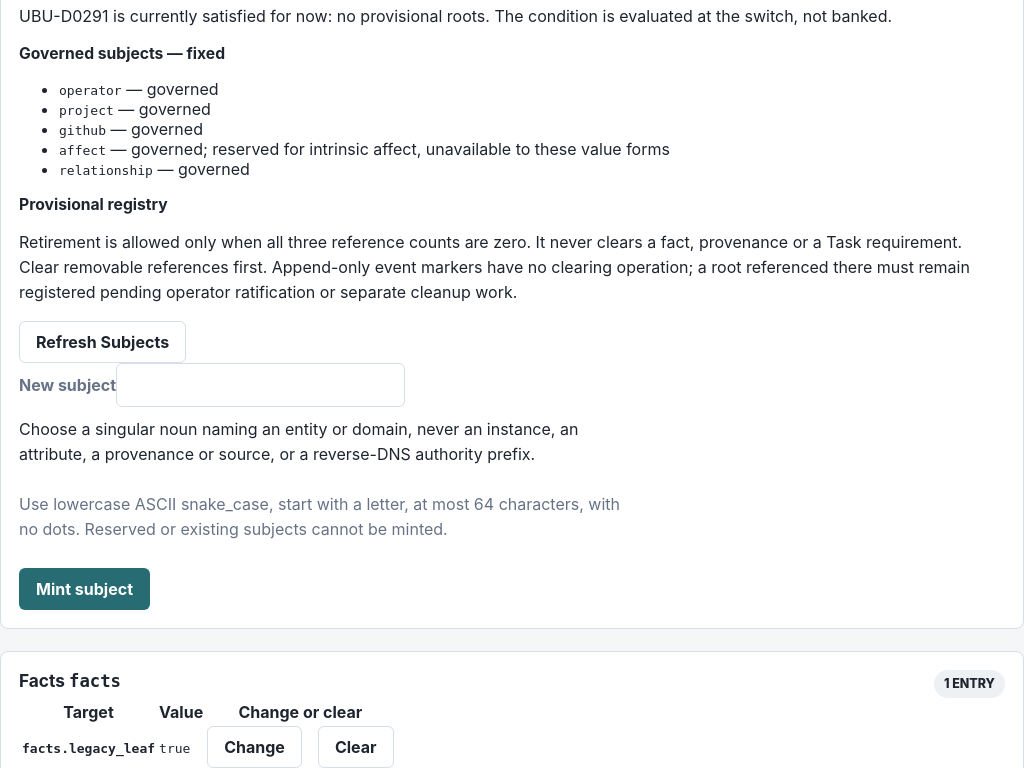
Test: computes empty-for-now satisfaction and changes to outstanding after explicit minting
(page scrolled)
Expected: the text named "Subject ratification status" shows "currently satisfied for now", x1=19 y1=6 x2=892 y2=26
Expected: the text named "Subject ratification status" shows "evaluated at the switch, not banked", x1=19 y1=6 x2=892 y2=26
Type "workbench" into the field labelled "New subject".
click(260, 385); type("workbench")  # box x1=116 y1=363 x2=405 y2=407
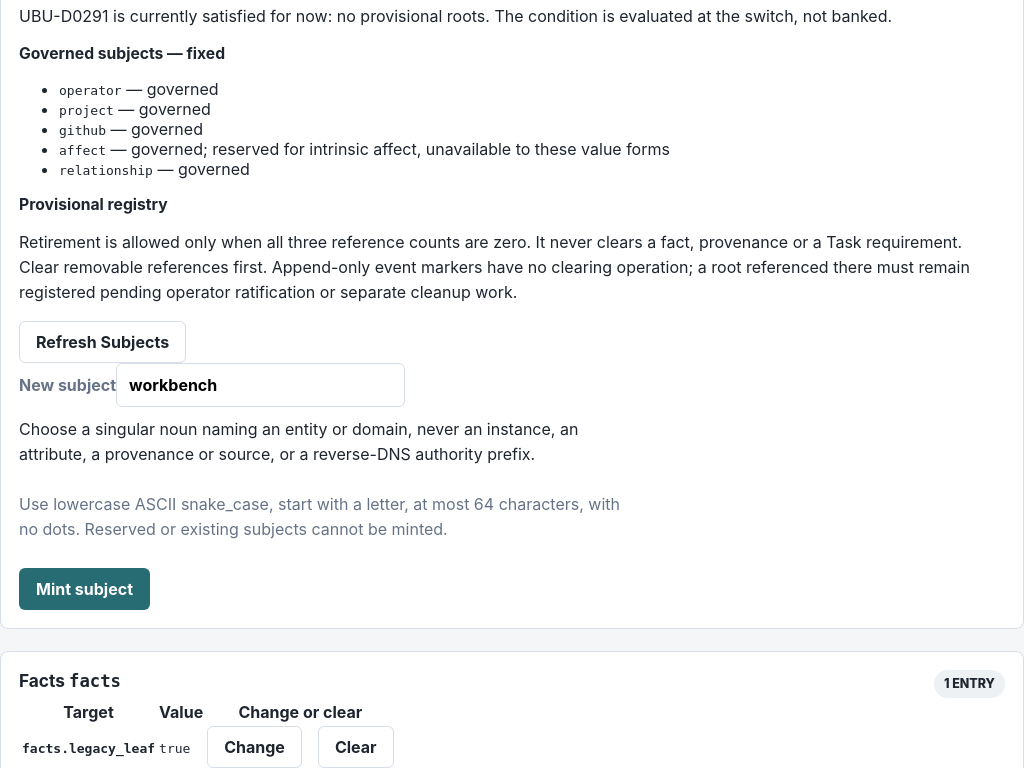
Click the button "Mint subject".
click(84, 589)  # box x1=19 y1=568 x2=150 y2=610
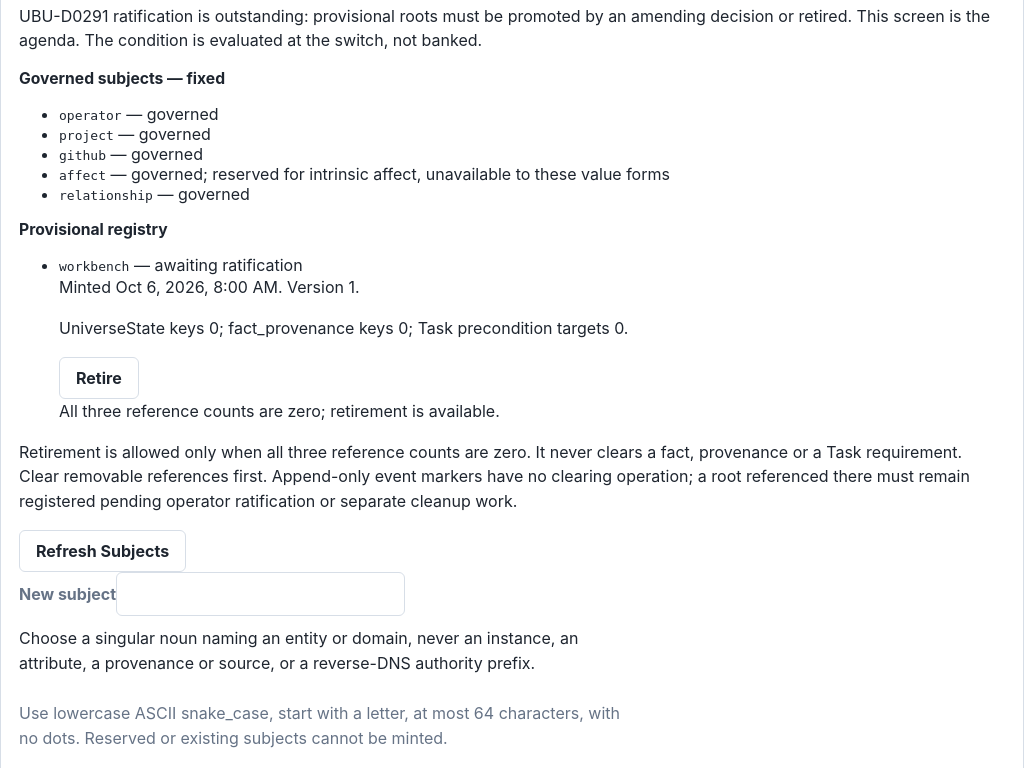
Now the list item with aria-label "Provisional subject workbench" is shown, box x1=59 y1=255 x2=628 y2=421
Now the text named "Subject ratification status" shows "ratification is outstanding", box x1=19 y1=6 x2=990 y2=50
Now the text named "Subject ratification status" shows "This screen is the agenda", box x1=19 y1=6 x2=990 y2=50
